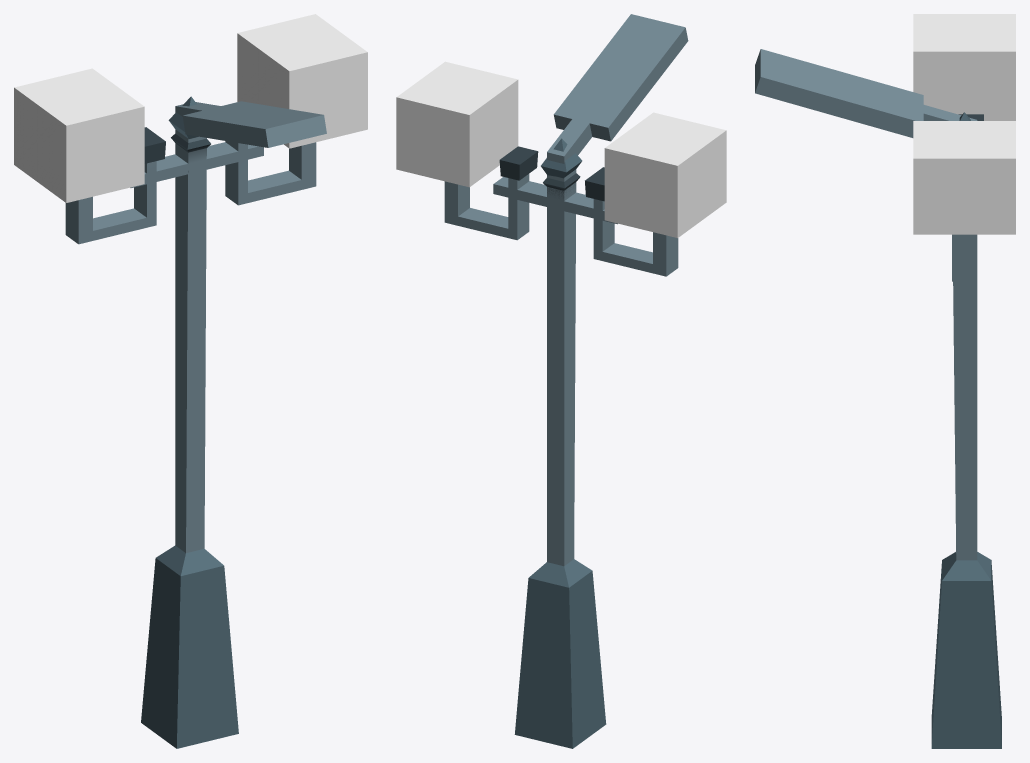
File: Light.fbx
3 renders of one model, left to right at view 1: azimuth 30°, elevation 25°; view 2: azimuth 150°, elevation 25°; view 3: azimuth 270°, elevation 25°, orthographic. The views are drawn at different scales.
Parts seen in each view (by area): view 1: Light; view 2: Light; view 3: Light.
Boxes of the visible parts, x1,y1,x2,y2 form: Light: (14, 14, 367, 748); Light: (396, 14, 726, 748); Light: (755, 14, 1015, 748).
Size of the model in its own units: 210 by 455 by 160.
